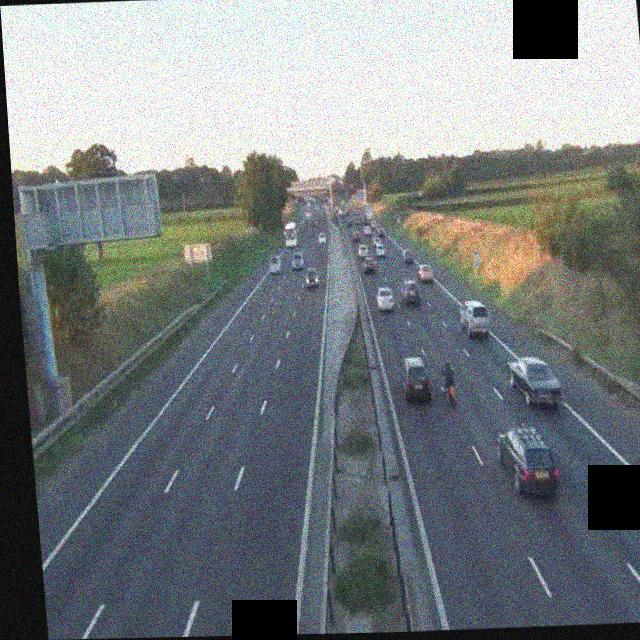bus: (282, 219, 298, 248)
car: (495, 424, 560, 497), (506, 355, 563, 411), (398, 356, 432, 403), (458, 299, 492, 339), (436, 358, 460, 405), (401, 281, 421, 307), (375, 288, 396, 310), (416, 263, 432, 283), (305, 266, 319, 287), (268, 255, 283, 273), (291, 252, 304, 271), (361, 253, 375, 269), (403, 248, 415, 264), (374, 240, 385, 257), (351, 227, 361, 242), (317, 230, 326, 244)
